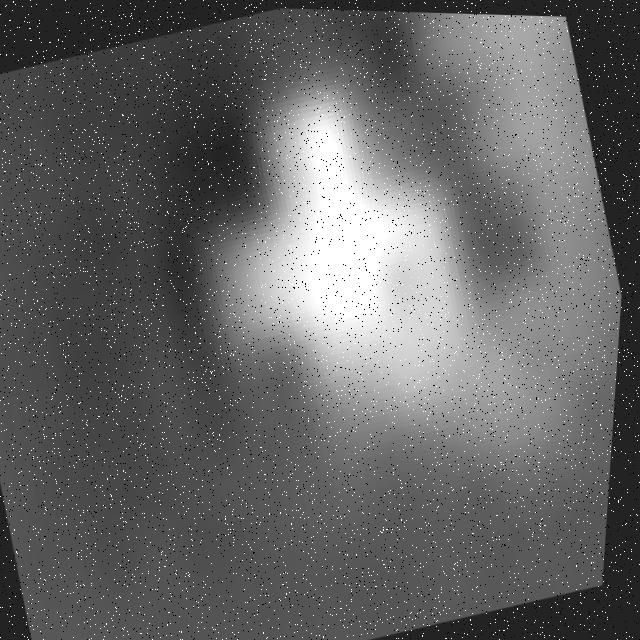person: (149, 28, 518, 492)
